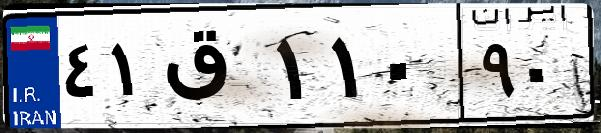0: (385, 28, 445, 110), (525, 38, 570, 115)
1: (270, 28, 330, 110), (330, 28, 385, 110), (110, 28, 158, 98)
4: (57, 26, 110, 100)
9: (475, 38, 525, 113)
ق: (158, 20, 270, 120)
